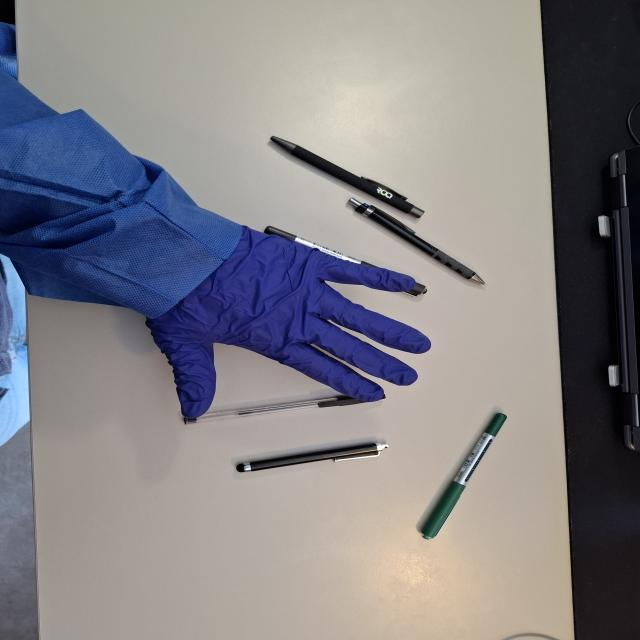glove_on: (138, 224, 436, 422)
